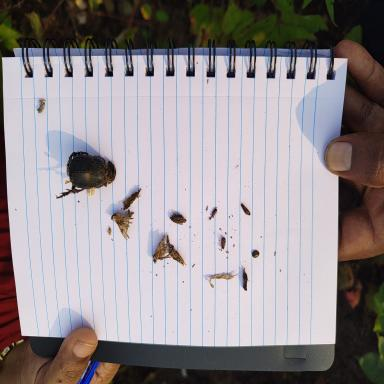abw: (110, 210, 134, 240), (152, 235, 172, 264)
pbw: (121, 187, 142, 210), (168, 245, 186, 266), (170, 211, 187, 225)
